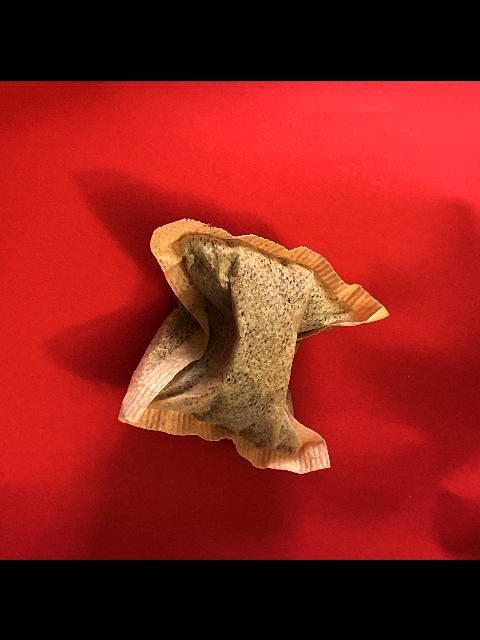teabag: (116, 214, 392, 476)
